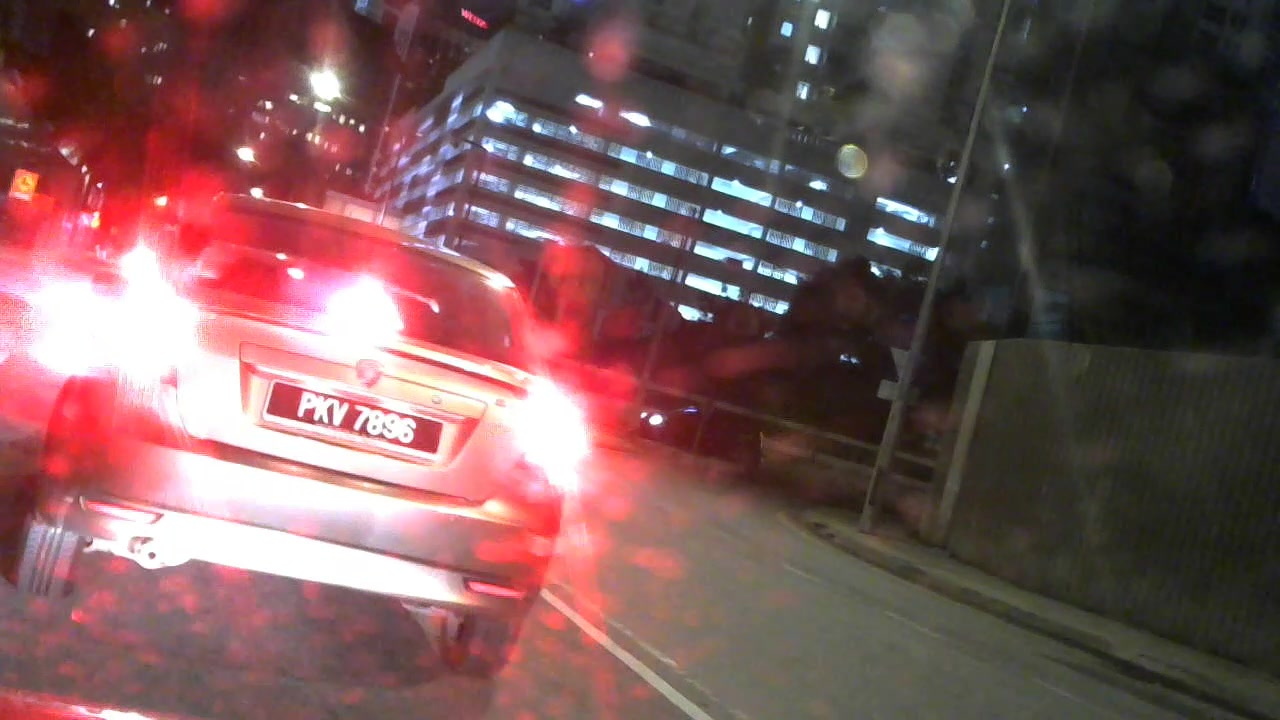Car: (17, 175, 600, 674)
